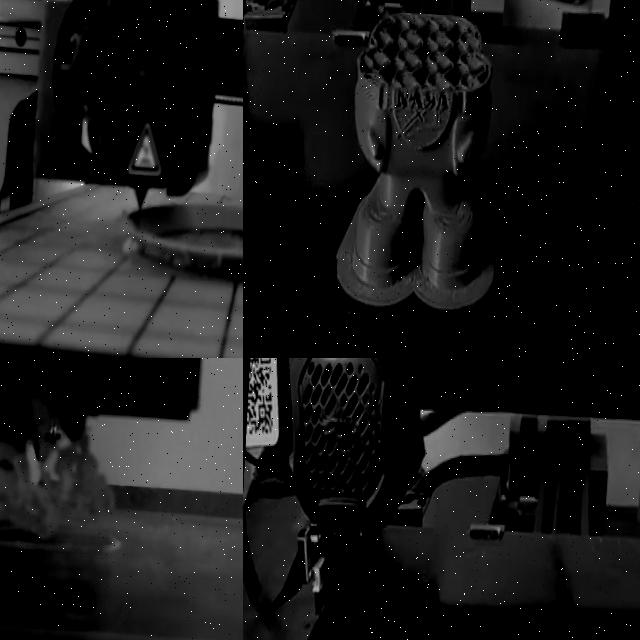spaghetti: (0, 411, 128, 559)
